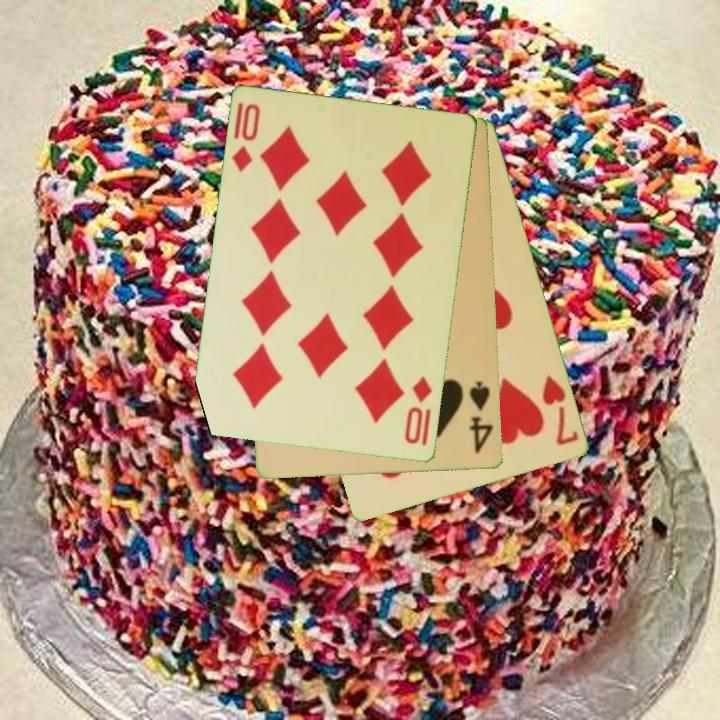10d: (401, 373, 435, 450), (229, 99, 263, 175)
4s: (466, 378, 496, 457)
7h: (539, 372, 582, 449)
